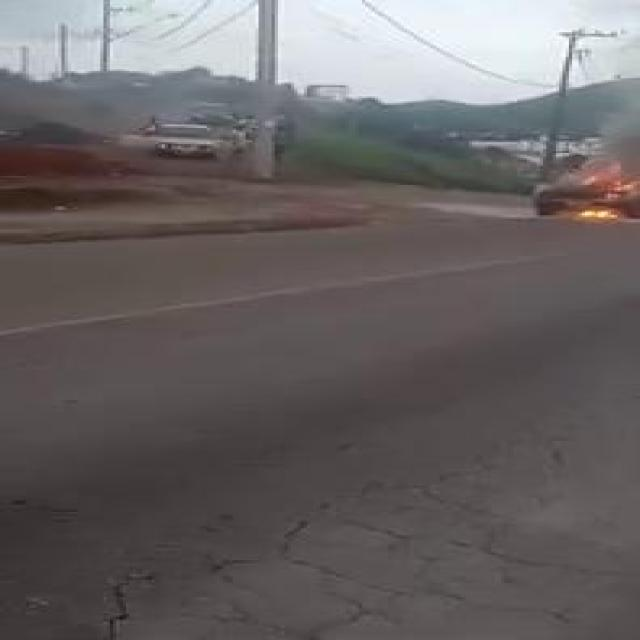Fire: (569, 187, 640, 226)
Smoke: (540, 34, 640, 180)
